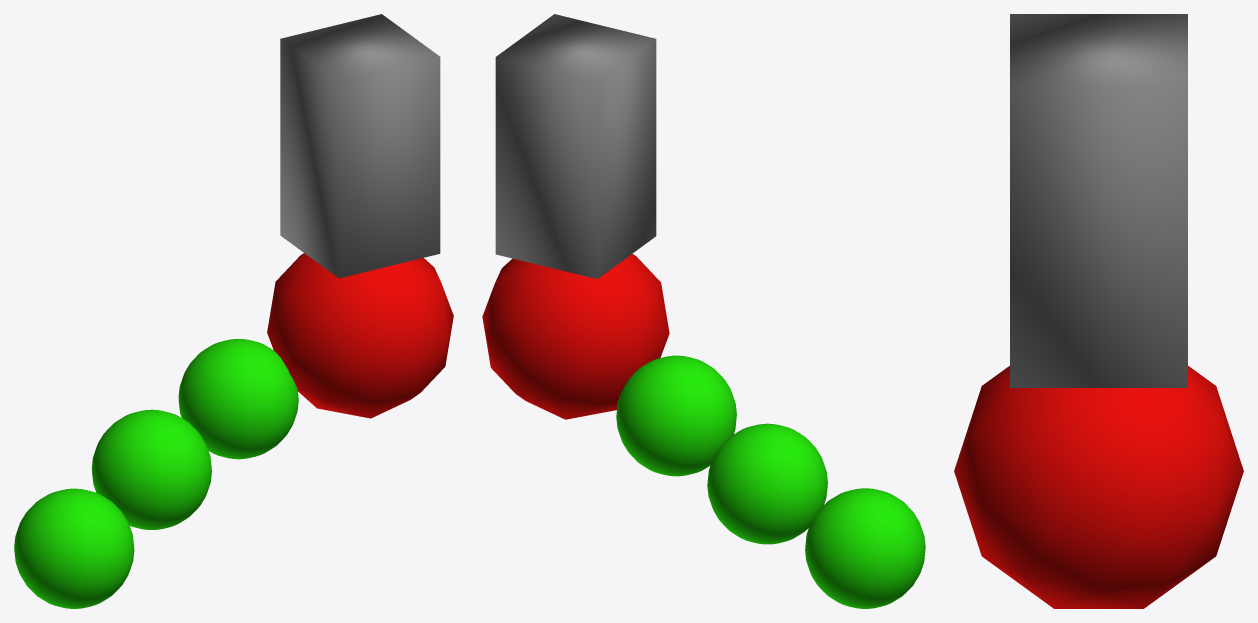
File: ATP.fbx
3 views of the same model, side by side, from view 1: azimuth 30°, elevation 25°; view 2: azimuth 150°, elevation 25°; view 3: azimuth 270°, elevation 25° (orthographic). The views are drawn at different scales.
Visible parts, largest first — view 1: Cube, Icosphere, Sphere.002, Sphere, Sphere.001; view 2: Cube, Icosphere, Sphere.002, Sphere.001, Sphere; view 3: Cube, Icosphere.
Boxes of the visible parts, bbox=[...] form: Cube: bbox=[280, 14, 440, 278]; Icosphere: bbox=[267, 253, 453, 418]; Sphere.002: bbox=[14, 488, 134, 608]; Sphere: bbox=[178, 339, 298, 459]; Sphere.001: bbox=[91, 409, 211, 529]; Cube: bbox=[495, 14, 656, 279]; Icosphere: bbox=[482, 254, 669, 419]; Sphere.002: bbox=[805, 488, 925, 608]; Sphere.001: bbox=[707, 423, 827, 544]; Sphere: bbox=[616, 355, 736, 476]; Cube: bbox=[1010, 14, 1187, 387]; Icosphere: bbox=[954, 366, 1243, 608].
Bounding box in the file's own units: 373 × 414 × 148.
